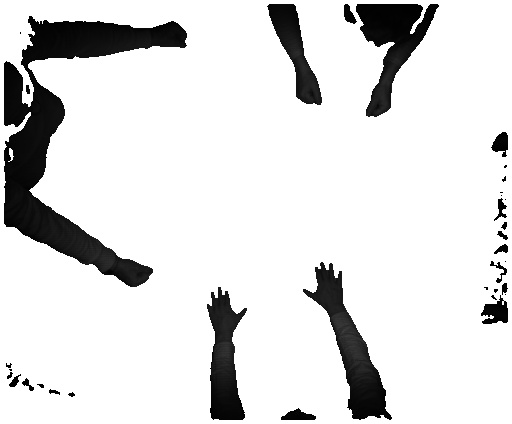fist: (118, 254, 159, 287), (360, 86, 399, 119), (296, 74, 327, 111), (155, 21, 191, 47)
hand: (296, 256, 350, 312), (200, 280, 247, 335)
